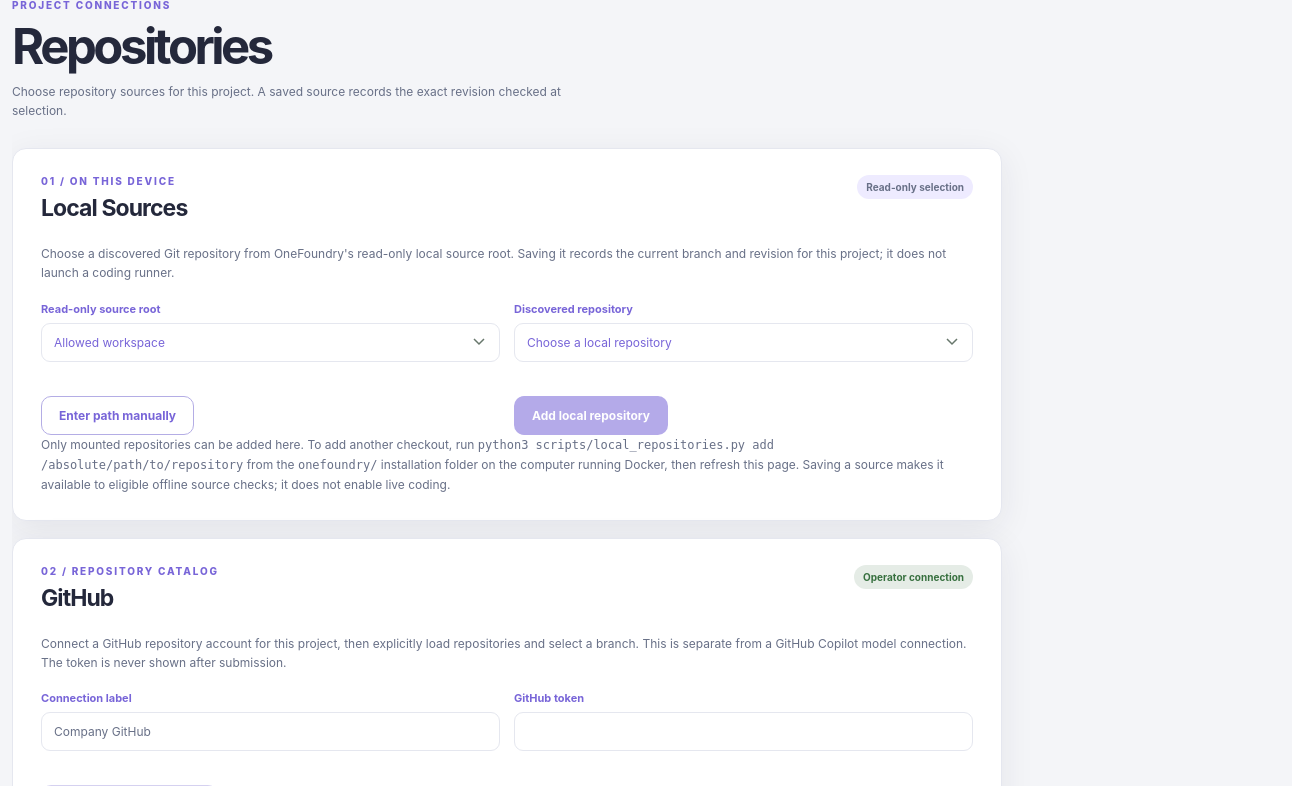
Scenario: selects a discovered local repository and confirms the saved revision
Select "studio · main" in the dropdown labelled "Discovered repository". click: (744, 342)
box: [514,322,973,362]
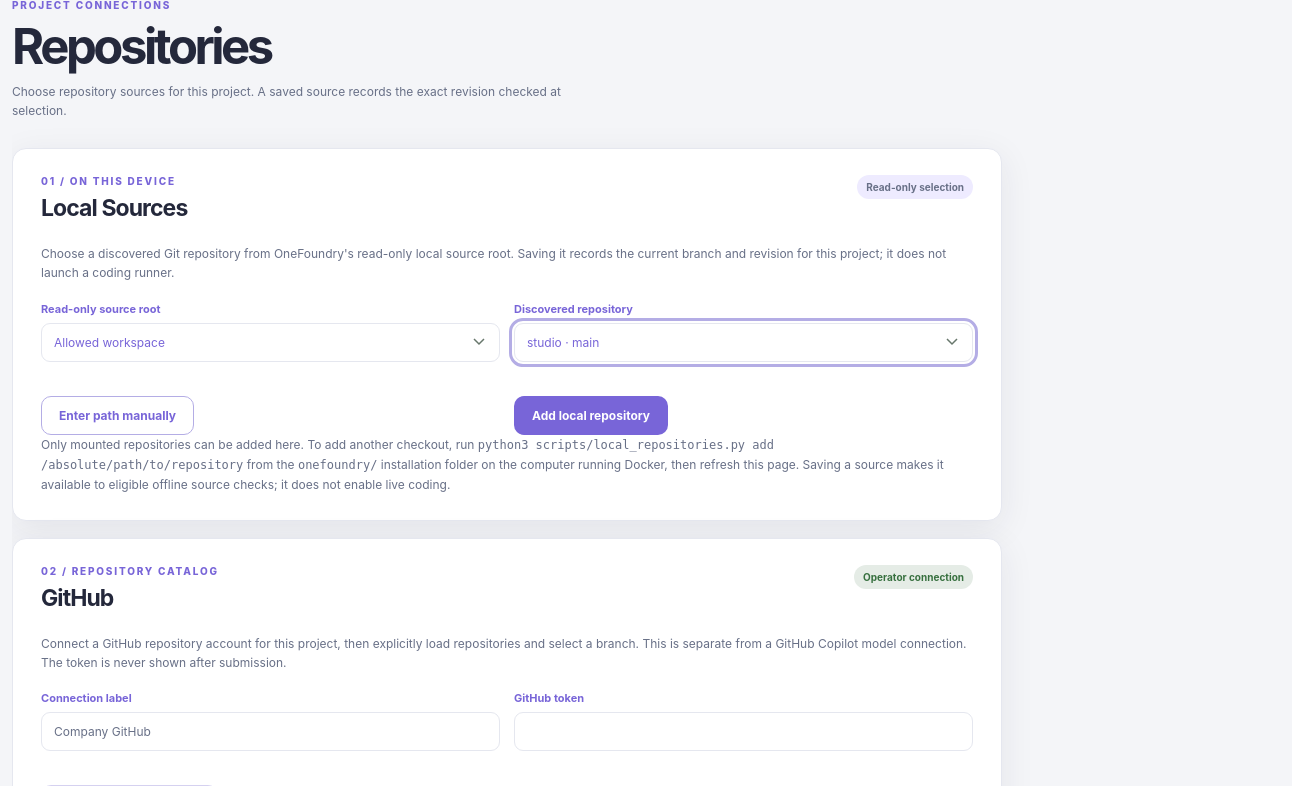
Click the button "Add local repository". click: (591, 415)
box: [514,396,668,434]
(page scrolled)
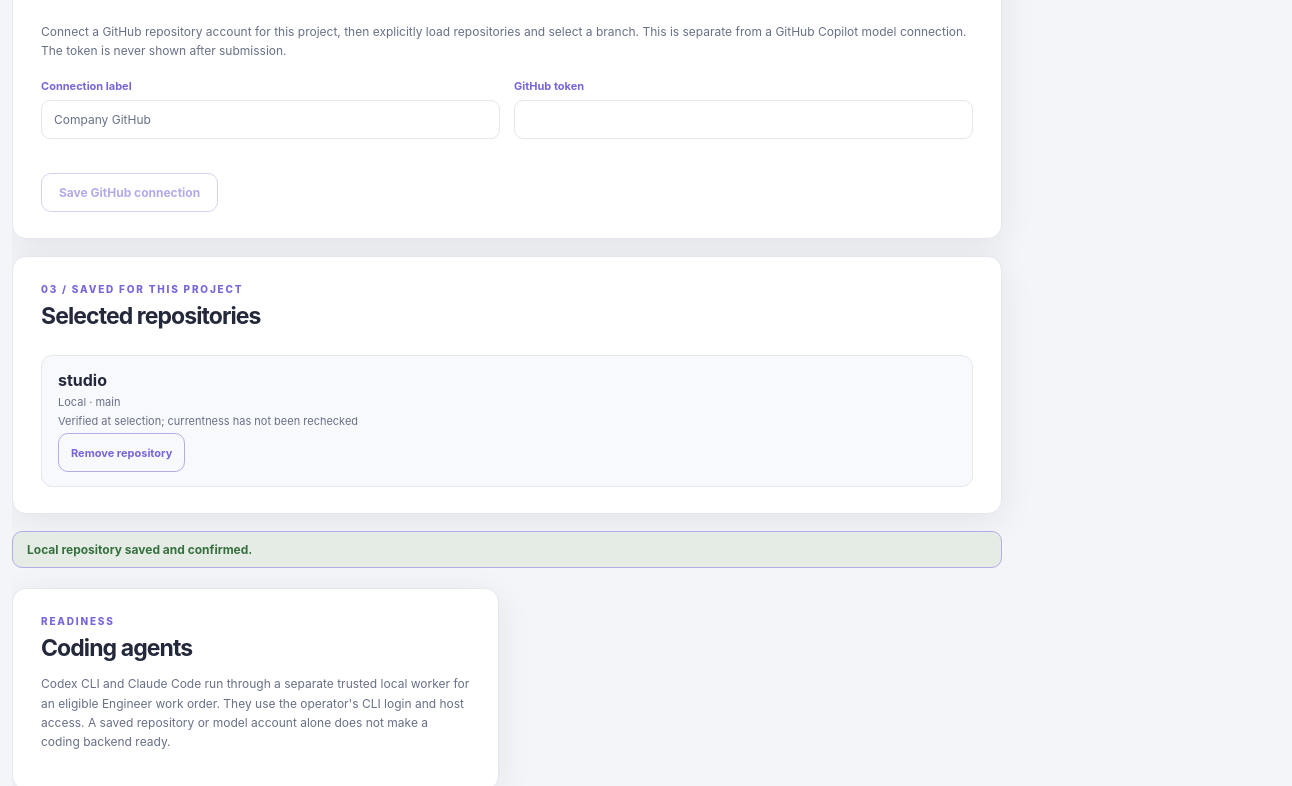
Expected: the text "Local repository saved and confirmed." is shown, [12,531,1002,568]
Expected: the text "Verified at selection; currentness has not been rechecked" is shown, [58,414,358,428]
